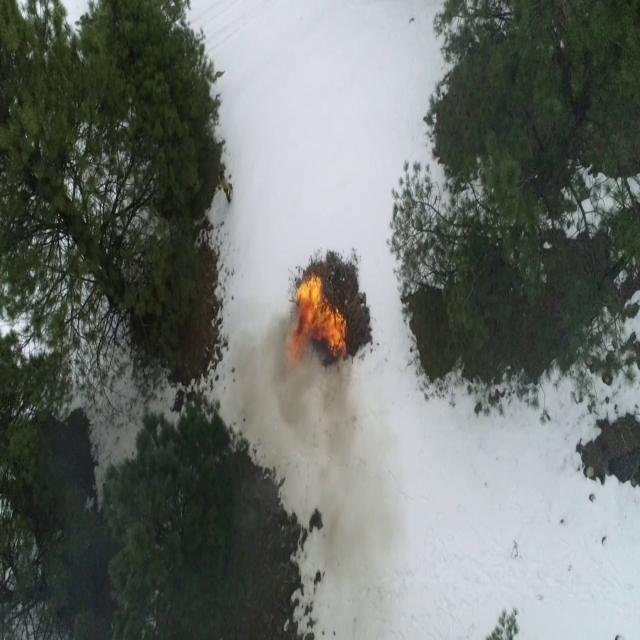fire: (290, 278, 345, 369)
